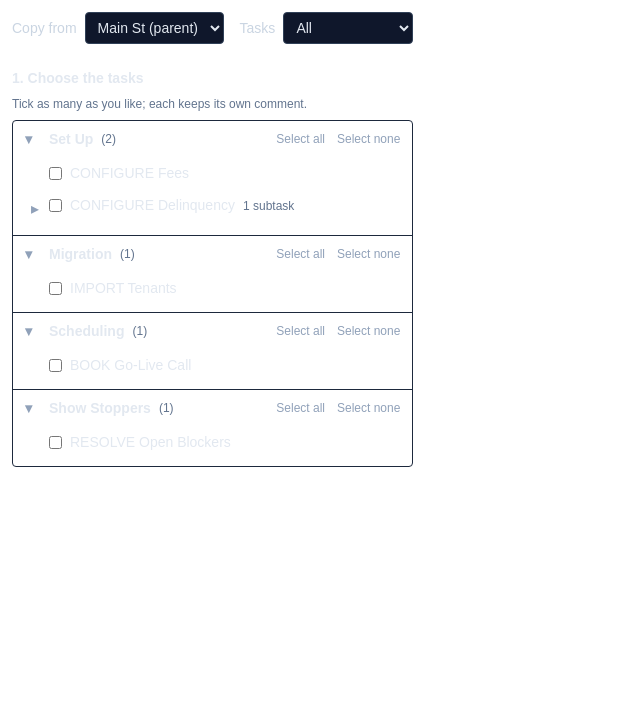
Test: BulkCopyPanel › several tasks at once › selects and clears a whole phase at once
Expected: the checkbox named "Copy from CONFIGURE Fees" is shown, [49,167,62,180]
What coordinates should you click on to do the following:
click the button with aria-label "Select all in Set Up"
I would click on:
 (301, 139)
Its box is [276,131,325,147].
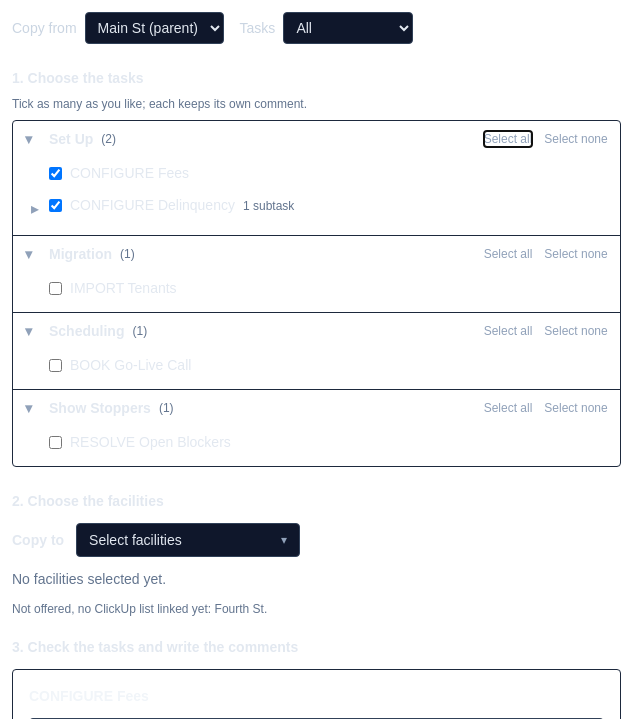
Expected: the checkbox named "Copy from IMPORT Tenants" is not checked, [49,282,62,295]
Result: the checkbox named "Copy from CONFIGURE Fees" is checked at [49,167,62,180]
Result: the checkbox named "Copy from CONFIGURE Delinquency" is checked at [49,199,62,212]
What coordinates should you click on to do the following:
click the button with aria-label "Select none in Set Up"
I would click on:
 (576, 139)
Its box is [544,131,608,147].
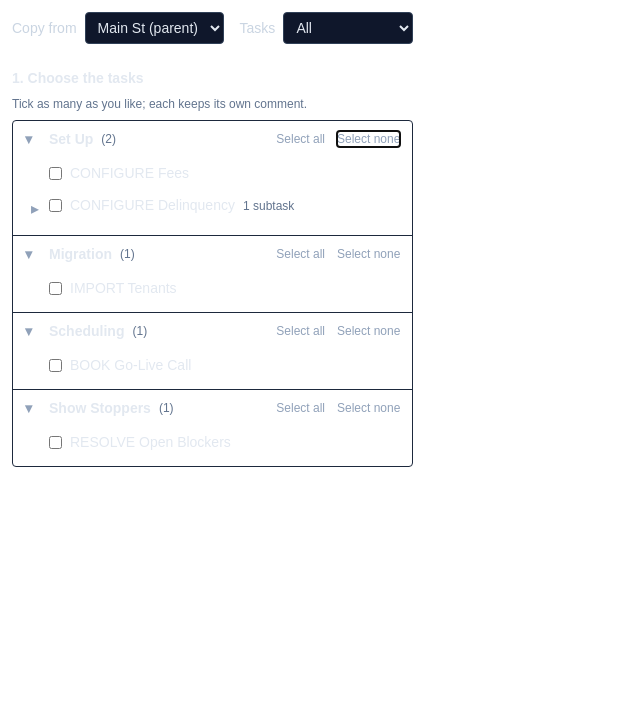
Result: the checkbox named "Copy from CONFIGURE Fees" is not checked at [49,167,62,180]
